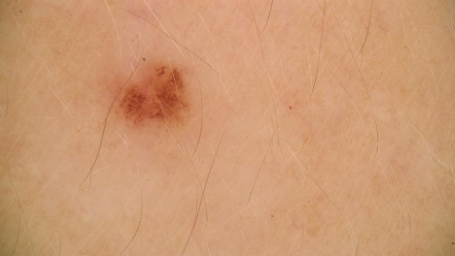melanoma: (119, 63, 182, 128)
